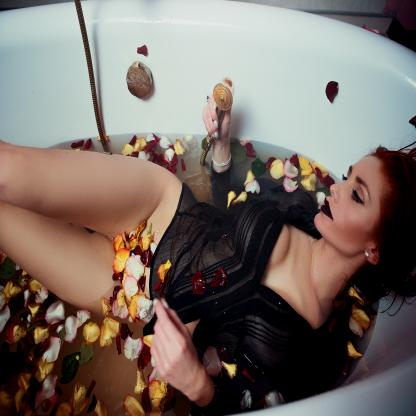jacket: (148, 179, 348, 402)
